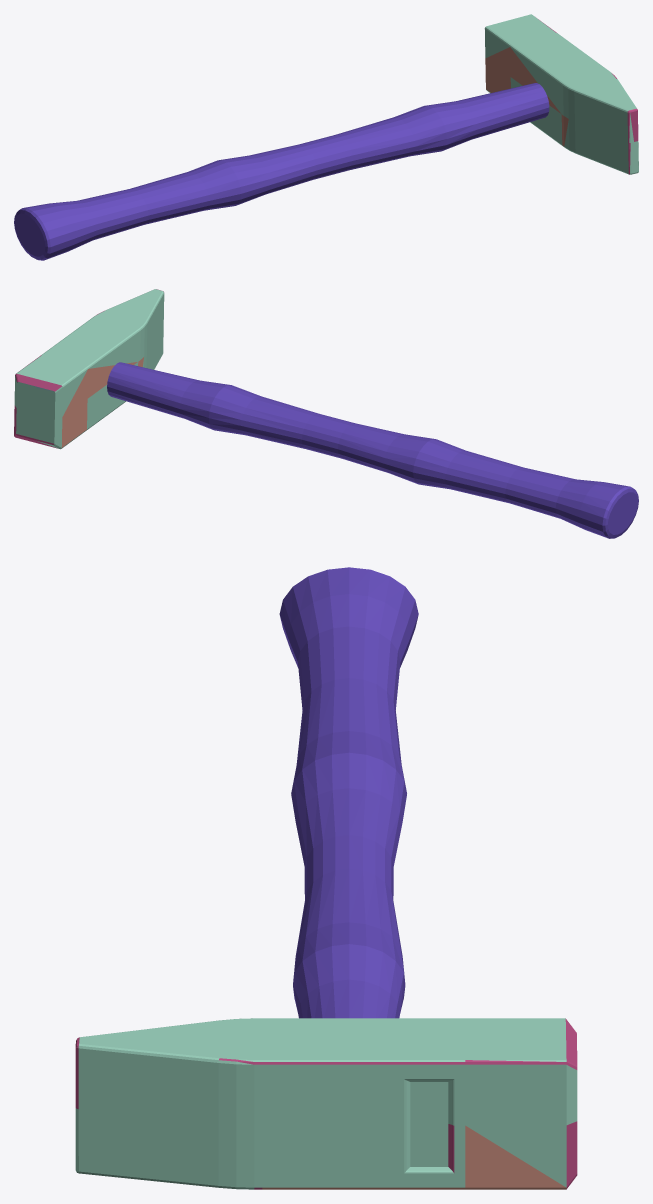
The model's file is post.glb.
3 renders of one model, top to bottom at view 1: azimuth 30°, elevation 25°; view 2: azimuth 150°, elevation 25°; view 3: azimuth 270°, elevation 25°, orthographic. The views are drawn at different scales.
Parts seen in each view (by area): view 1: world; view 2: world; view 3: world.
Part boxes in pixels (<box>): world: <box>14,14,638,260</box>; world: <box>14,289,638,538</box>; world: <box>75,567,577,1189</box>.
Size of the model in its own units: 1 by 0.1171 by 0.3916.
